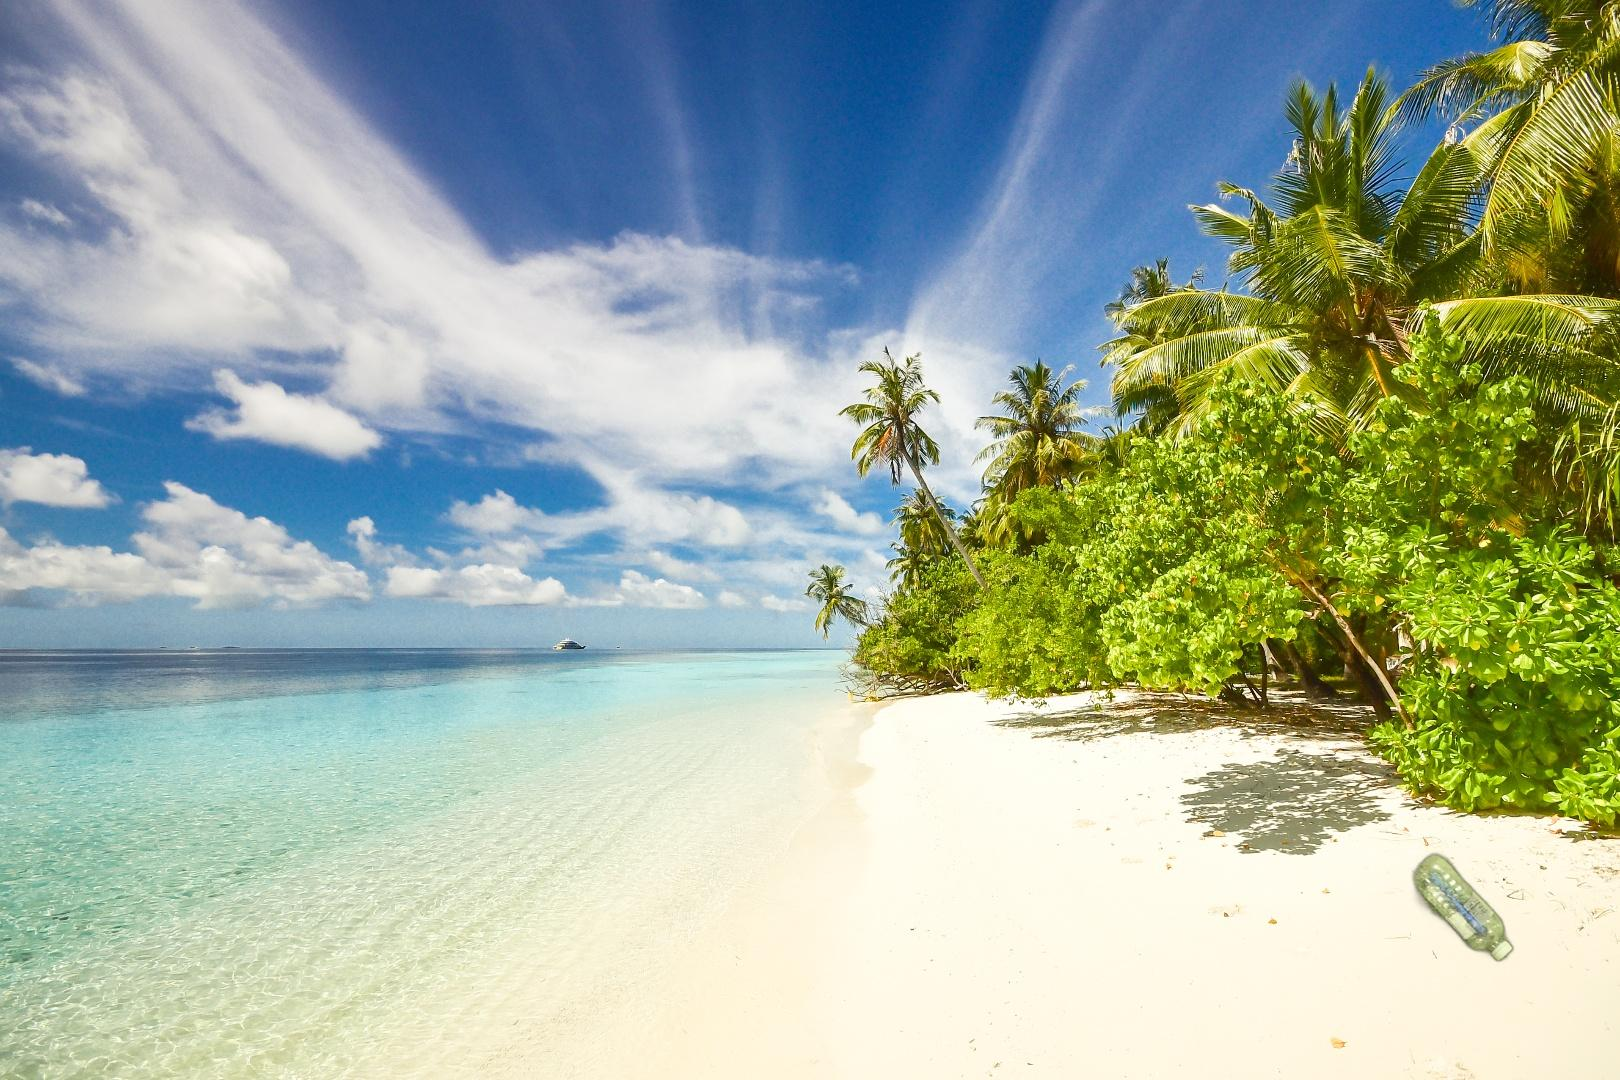plastic-bottles: (1091, 847, 1518, 1080)
